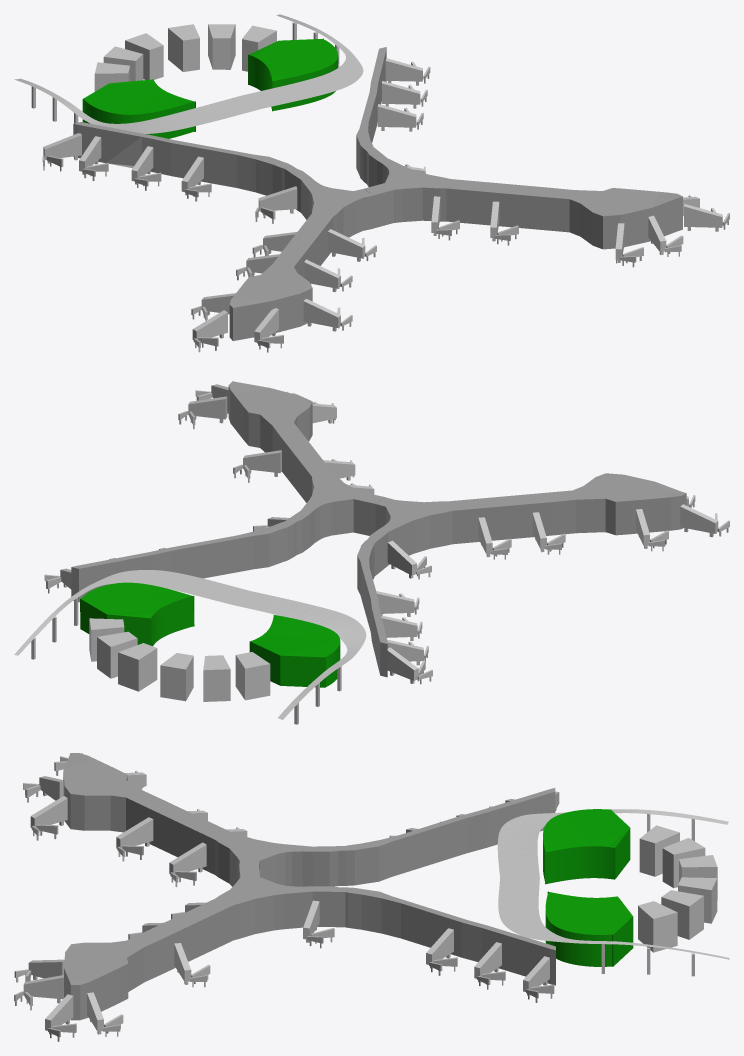
The model's file is hanger.obj.
The picture shows the model from 3 angles, top to bottom: view 1: azimuth 30°, elevation 25°; view 2: azimuth 150°, elevation 25°; view 3: azimuth 270°, elevation 25°; orthographic projection. The views are drawn at different scales.
Parts seen in each view (by area): view 1: Cube.006_Cube.009, Cube.000, Cylinder.003_Cylinder.016, Plane, Plane.001, Cube.003_Cube.004, Cube.004_Cube.005, Cube_Cube.001, Cube.026_Cube.068, Cube.022_Cube.064, Cube.030_Cube.072, Cube.020_Cube.062 (+20 smaller); view 2: Cube.006_Cube.009, Cube.000, Cylinder.003_Cylinder.016, Plane, Plane.001, Cube.003_Cube.004, Cube.002_Cube.003, Cube_Cube.001, Cube.001_Cube.002, Cube.004_Cube.005, Cube.012_Cube.054, Cube.022_Cube.064 (+10 smaller); view 3: Cube.006_Cube.009, Cube.000, Cylinder.003_Cylinder.016, Plane.001, Plane, Cube.005_Cube.006, Cube.004_Cube.005, Cube.002_Cube.003, Cube.001_Cube.002, Cube.020_Cube.062, Cube.003_Cube.004, Cube.018_Cube.060 (+12 smaller).
Boxes of the visible parts, x1,y1,x2,y2 form: Cube.006_Cube.009: (356,47,682,249); Cube.000: (73,122,372,340); Cylinder.003_Cylinder.016: (14,14,363,133); Plane: (248,38,338,111); Plane.001: (82,79,195,138); Cube.003_Cube.004: (168,24,199,71); Cube.004_Cube.005: (208,24,235,69); Cube_Cube.001: (125,33,163,79); Cube.026_Cube.068: (255,186,297,223); Cube.022_Cube.064: (192,310,227,352); Cube.030_Cube.072: (42,133,81,171); Cube.020_Cube.062: (303,299,352,331); Cube.006_Cube.009: (71,381,384,602); Cube.000: (357,473,686,677); Cylinder.003_Cylinder.016: (14,570,366,719); Plane: (80,582,194,646); Plane.001: (249,615,340,687); Cube.003_Cube.004: (118,643,157,691); Cube.002_Cube.003: (235,652,270,700); Cube_Cube.001: (160,653,193,701); Cube.001_Cube.002: (203,655,230,701); Cube.004_Cube.005: (97,631,137,678); Cube.012_Cube.054: (178,396,227,429); Cube.022_Cube.064: (680,504,729,537); Cube.006_Cube.009: (64,866,555,1020); Cube.000: (63,753,555,886); Cylinder.003_Cylinder.016: (497,809,729,959); Plane.001: (543,809,630,884); Plane: (545,891,633,966); Cube.005_Cube.006: (638,901,677,952); Cube.004_Cube.005: (661,890,703,939); Cube.002_Cube.003: (639,825,679,876); Cube.001_Cube.002: (662,838,705,888); Cube.020_Cube.062: (30,796,67,840); Cube.003_Cube.004: (678,877,717,923); Cube.018_Cube.060: (169,842,206,887).
Bounding box in the file's own units: 8.53 × 0.5922 × 9.38.
